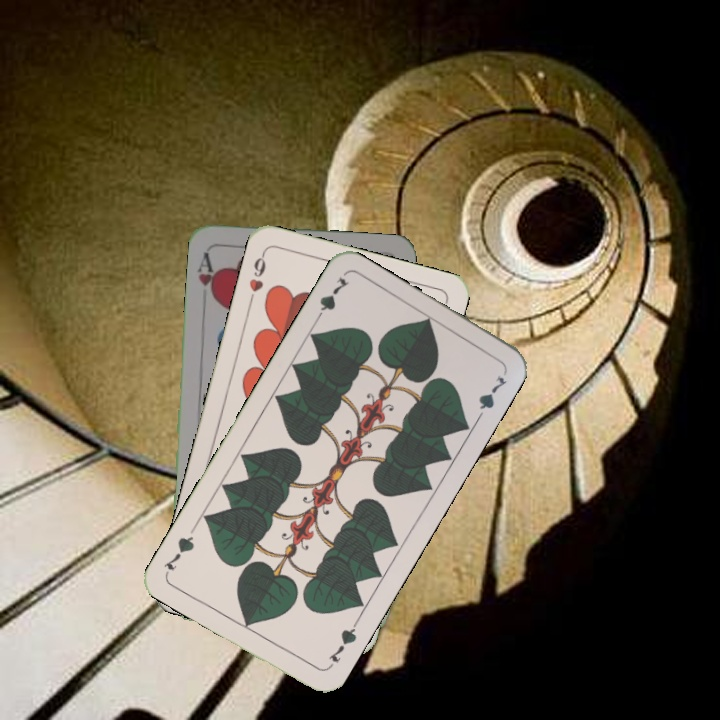G7: (310, 273, 352, 326), (324, 618, 360, 665)
H9: (244, 248, 269, 307)
HA: (193, 248, 220, 303)
